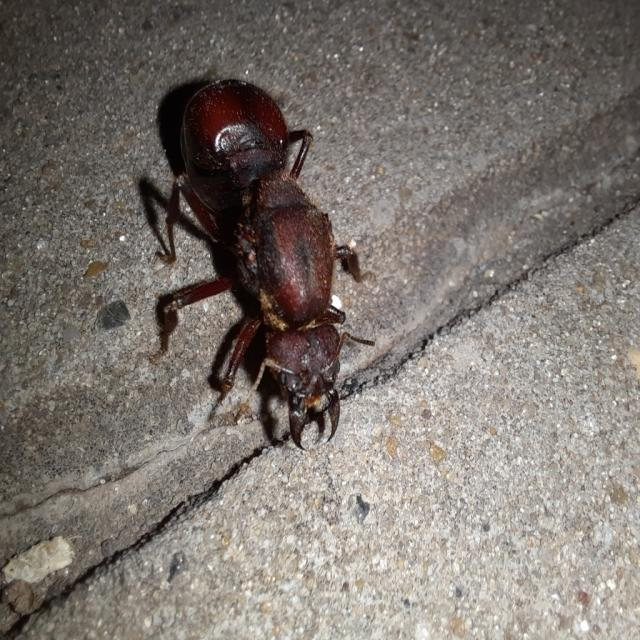Alive-Female-Dealate: (148, 76, 376, 452)
